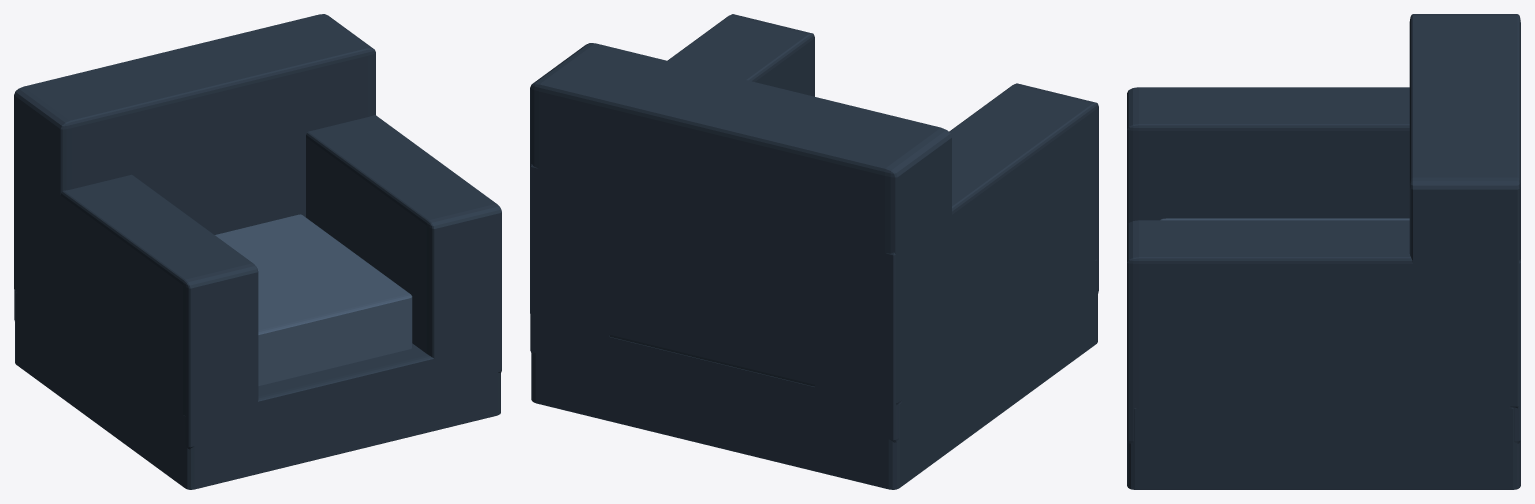
File: armchair.glb
The picture shows the model from 3 angles, left to right: view 1: azimuth 30°, elevation 25°; view 2: azimuth 150°, elevation 25°; view 3: azimuth 270°, elevation 25°; orthographic projection. The views are drawn at different scales.
Visible parts, largest first — view 1: Cube.001, Cube.002, Cube, Cube.003, Cube.004; view 2: Cube.001, Cube.002, Cube, Cube.003; view 3: Cube.003, Cube.001, Cube.002, Cube, Cube.004.
Part boxes in pixels (bbox=[...]): Cube.001: bbox=[14, 14, 375, 296]; Cube.002: bbox=[14, 164, 258, 449]; Cube: bbox=[15, 292, 500, 489]; Cube.003: bbox=[306, 115, 501, 387]; Cube.004: bbox=[215, 214, 412, 385]; Cube.001: bbox=[530, 43, 951, 404]; Cube.002: bbox=[815, 83, 1098, 442]; Cube: bbox=[531, 259, 1097, 489]; Cube.003: bbox=[530, 14, 814, 369]; Cube.003: bbox=[1127, 220, 1520, 443]; Cube.001: bbox=[1409, 14, 1520, 408]; Cube.002: bbox=[1127, 87, 1409, 225]; Cube: bbox=[1127, 408, 1520, 489]; Cube.004: bbox=[1160, 218, 1409, 220].
Size of the model in its own units: 0.88 by 0.755 by 0.85.
